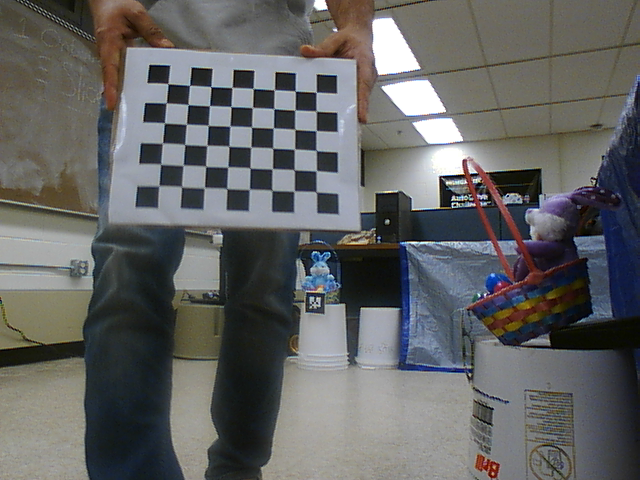bunny: (452, 153, 602, 351)
